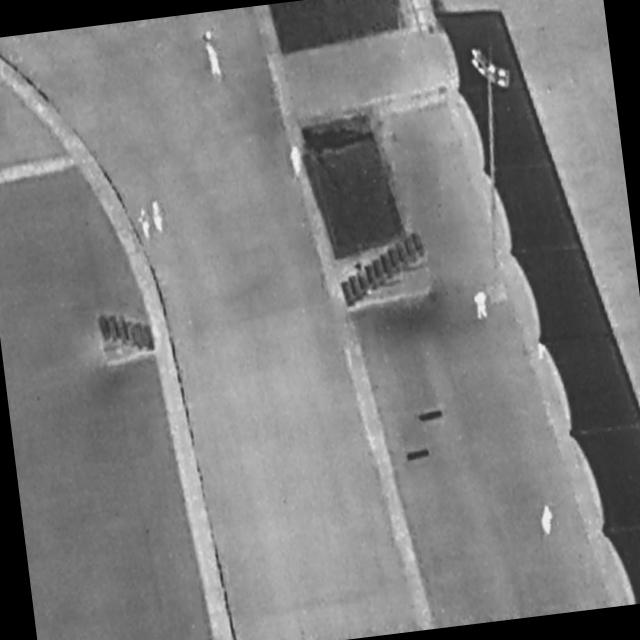person: (202, 27, 226, 79), (286, 142, 309, 180), (134, 205, 154, 242), (538, 502, 558, 539), (473, 287, 492, 324), (149, 198, 167, 234)
